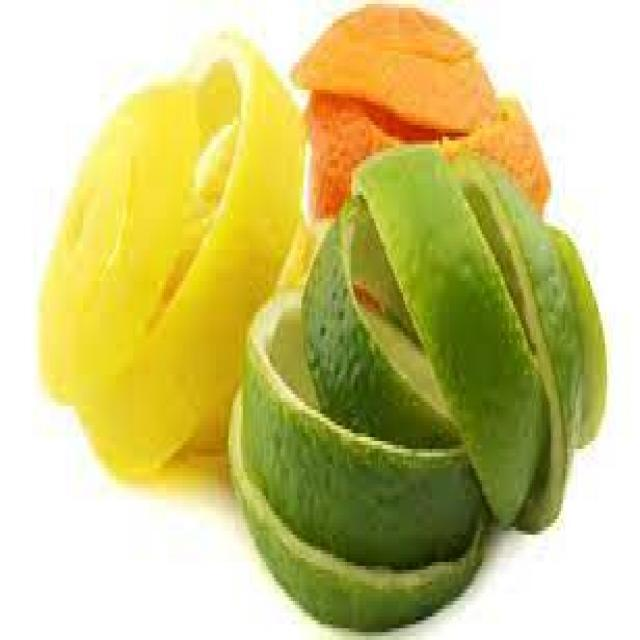Wet: (228, 138, 612, 636), (39, 39, 308, 496), (292, 2, 552, 218)
